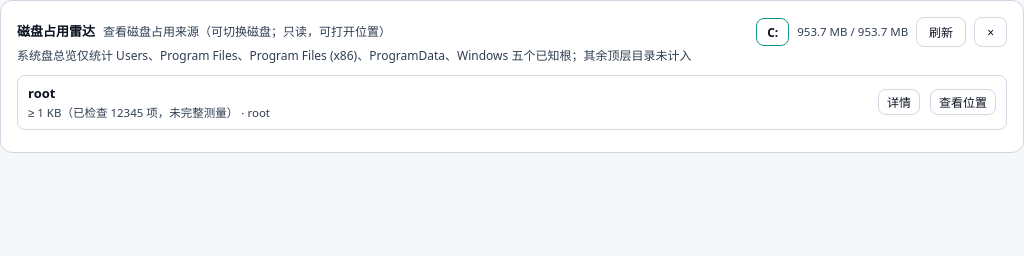
Test case: keeps the visible list when a refresh is cancelled
The width and height of the screenshot is (1024, 256).
Expected: the text "root" is shown, [28,84,55,104]
Click the button "刷新": (941,32) [916,17,966,47]
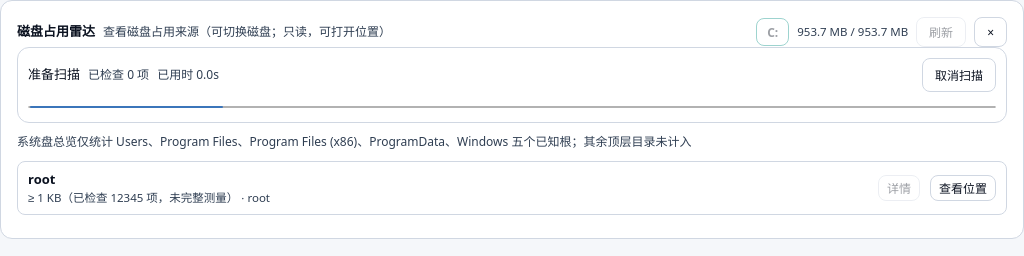
Click the button "取消扫描": (959,75) [922,58,996,92]
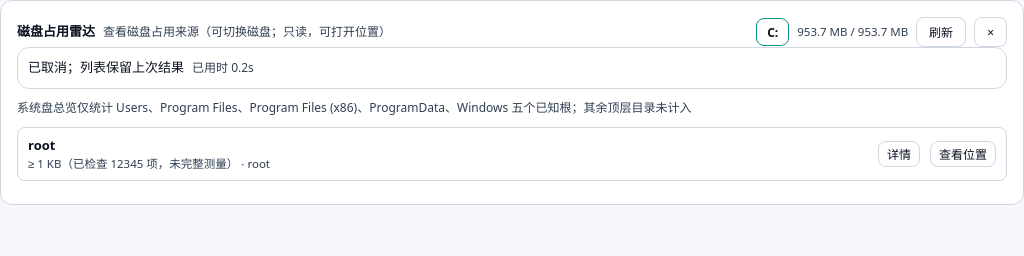
Expected: the text "root" is shown, [28,136,55,155]
Now the message reads "已取消；列表保留上次结果", box [28,58,184,76]
